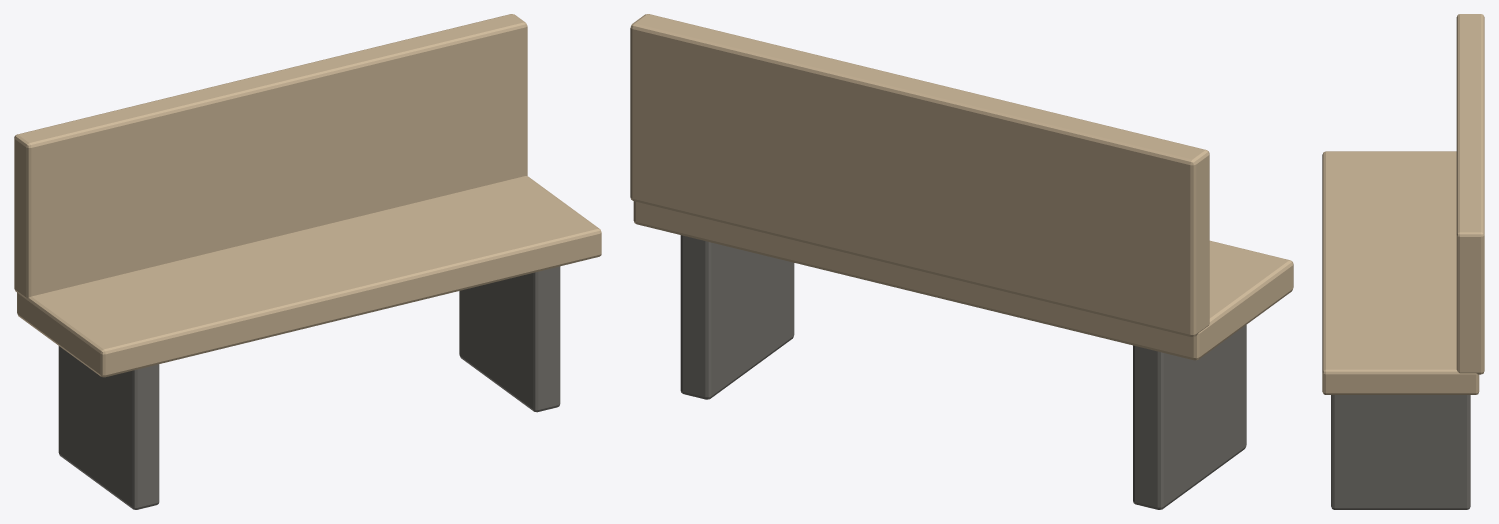
File: bench.glb
The picture shows the model from 3 angles, left to right: view 1: azimuth 30°, elevation 25°; view 2: azimuth 150°, elevation 25°; view 3: azimuth 270°, elevation 25°; orthographic projection. The views are drawn at different scales.
Parts seen in each view (by area): view 1: seat; view 2: seat; view 3: seat.
Boxes of the visible parts, x1,y1,x2,y2 form: seat: [14, 14, 601, 509]; seat: [630, 14, 1293, 509]; seat: [1322, 14, 1484, 509].
Bounding box in the file's own units: 1.5 × 0.93 × 0.465.
